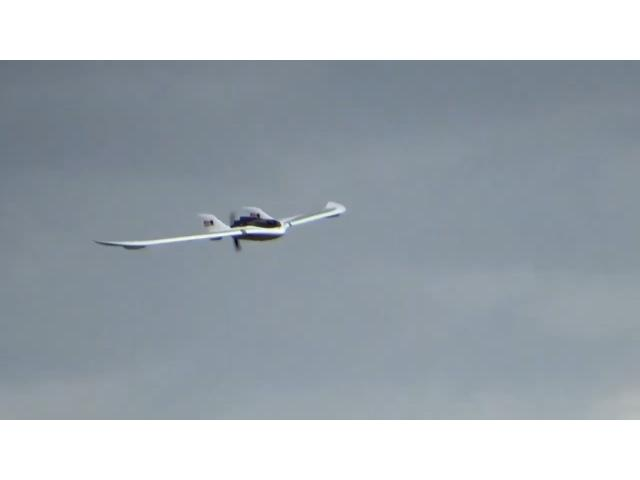Anti-Drone: (91, 200, 347, 250)
